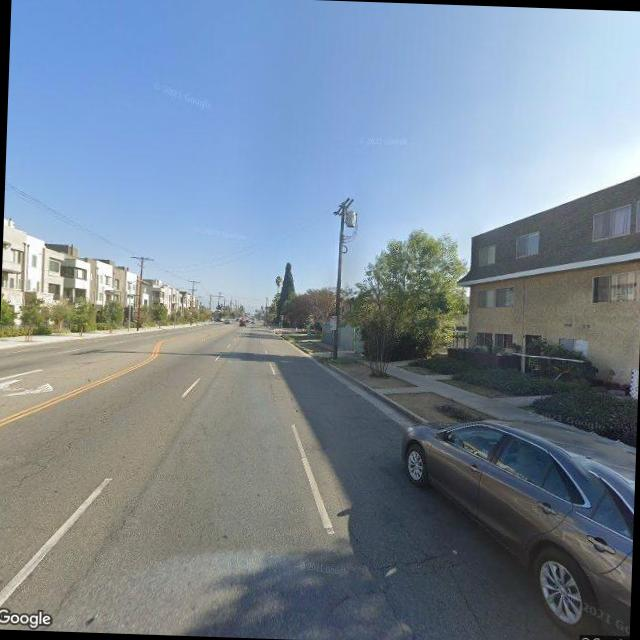crack: (56, 484, 148, 613), (434, 551, 495, 640), (363, 540, 467, 586)
